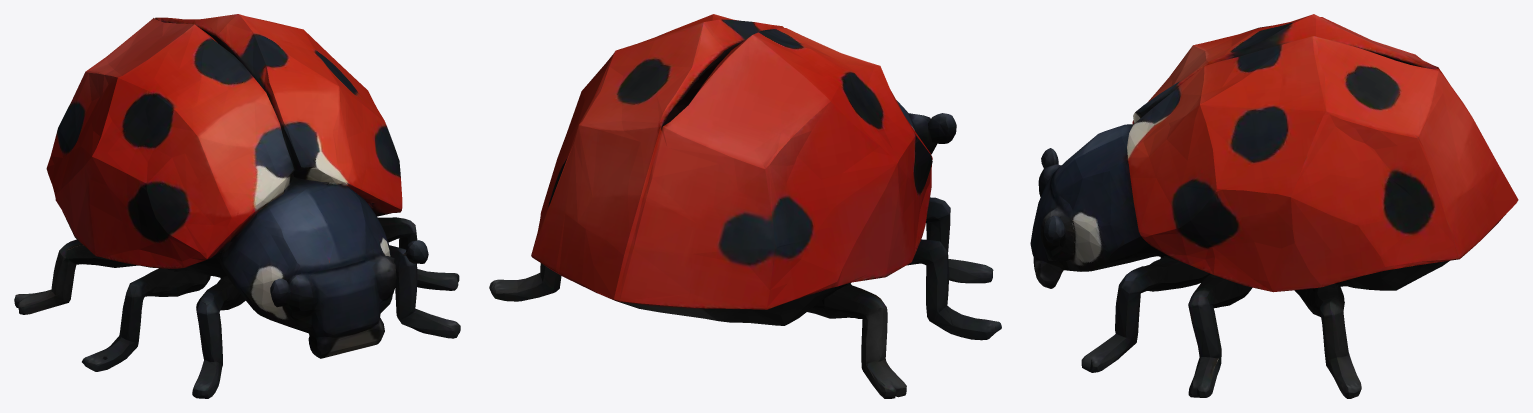
File: ladybug.glb
The picture shows the model from 3 angles, left to right: view 1: azimuth 30°, elevation 25°; view 2: azimuth 150°, elevation 25°; view 3: azimuth 270°, elevation 25°; orthographic projection. The views are drawn at different scales.
Parts seen in each view (by area): view 1: world; view 2: world; view 3: world.
Part boxes in pixels (x1,y1,x2,y2): world: (14, 14, 460, 398); world: (489, 14, 1001, 398); world: (1030, 14, 1518, 398).
Bounding box in the file's own units: 0.9301 × 0.6384 × 0.9986.
1 material, 1 textured.
